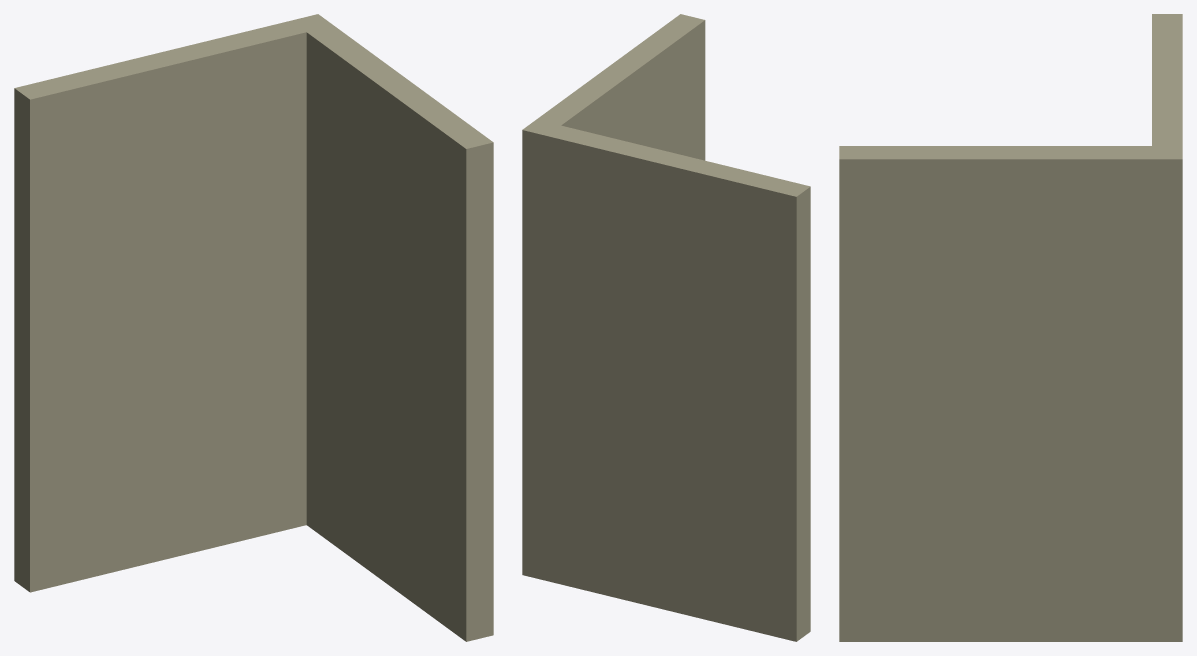
The model's file is wall_corner.glb.
3 renders of one model, left to right at view 1: azimuth 30°, elevation 25°; view 2: azimuth 150°, elevation 25°; view 3: azimuth 270°, elevation 25°, orthographic. The views are drawn at different scales.
Parts seen in each view (by area): view 1: wall_corner; view 2: wall_corner; view 3: wall_corner.
Boxes of the visible parts, x1=… form: wall_corner: x1=14, y1=14, x2=493, y2=641; wall_corner: x1=522, y1=14, x2=810, y2=641; wall_corner: x1=839, y1=14, x2=1182, y2=641.
Size of the model in its own units: 2 by 3.1 by 2.
